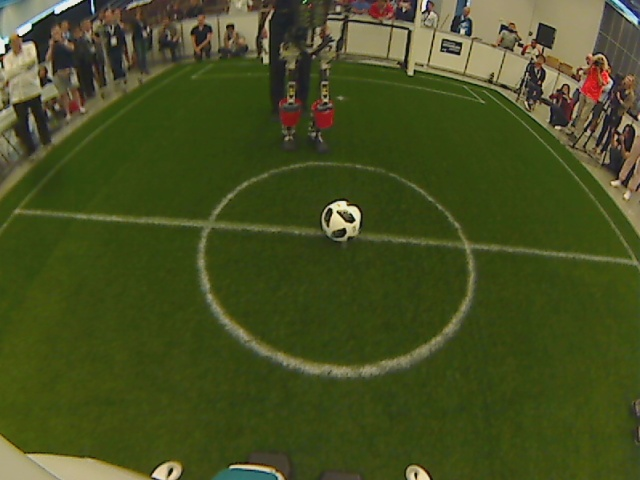ball: (316, 198, 366, 246)
